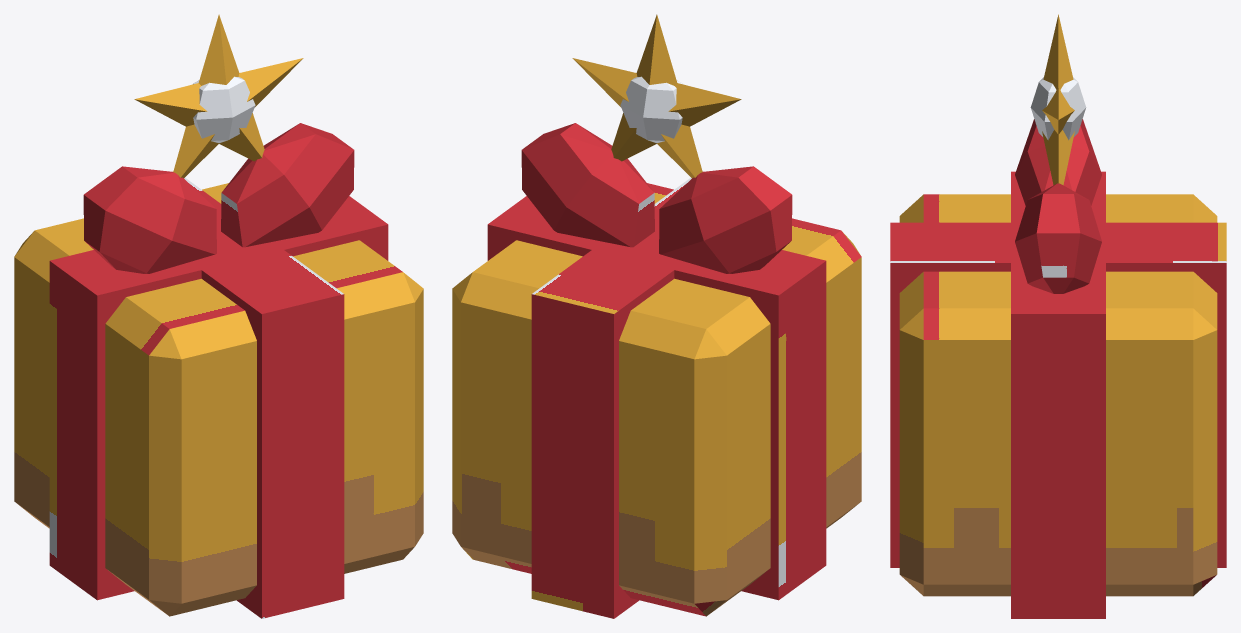
File: gift_evo.glb
The picture shows the model from 3 angles, left to right: view 1: azimuth 30°, elevation 25°; view 2: azimuth 150°, elevation 25°; view 3: azimuth 270°, elevation 25°; orthographic projection.
Parts seen in each view (by area): view 1: gift_evo; view 2: gift_evo; view 3: gift_evo.
Boxes of the visible parts, x1,y1,x2,y2 form: gift_evo: (14,14,423,618); gift_evo: (452,14,861,618); gift_evo: (890,14,1226,618).
Bounding box in the file's own units: 0.424 × 0.742 × 0.424.
1 material, 1 textured.
